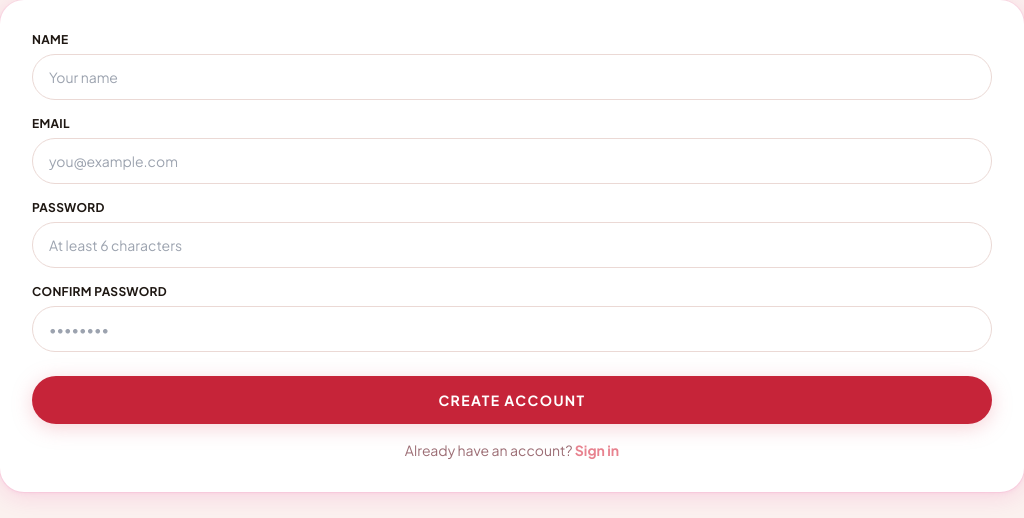
Scenario: SignupForm › shows a friendly error for a wrong or expired code (failure case)
In the field with placeholder "Your name": (512, 77) [32, 54, 992, 100], type "Nandini"
In the field with placeholder "you@example.com": (512, 161) [32, 138, 992, 184], type "nandini@charmavenue.in"
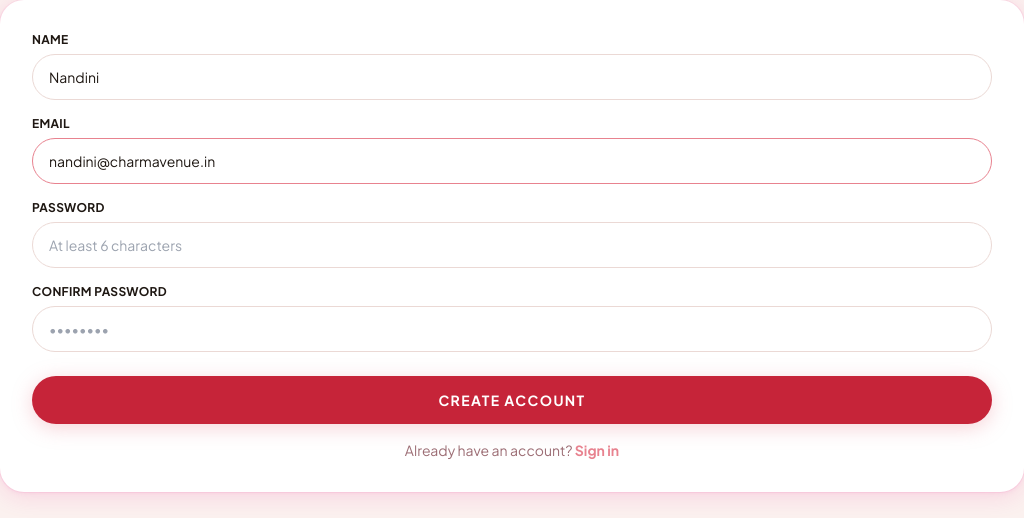
In the password field with placeholder "At least 6 characters": (512, 245) [32, 222, 992, 268], type "secret1"
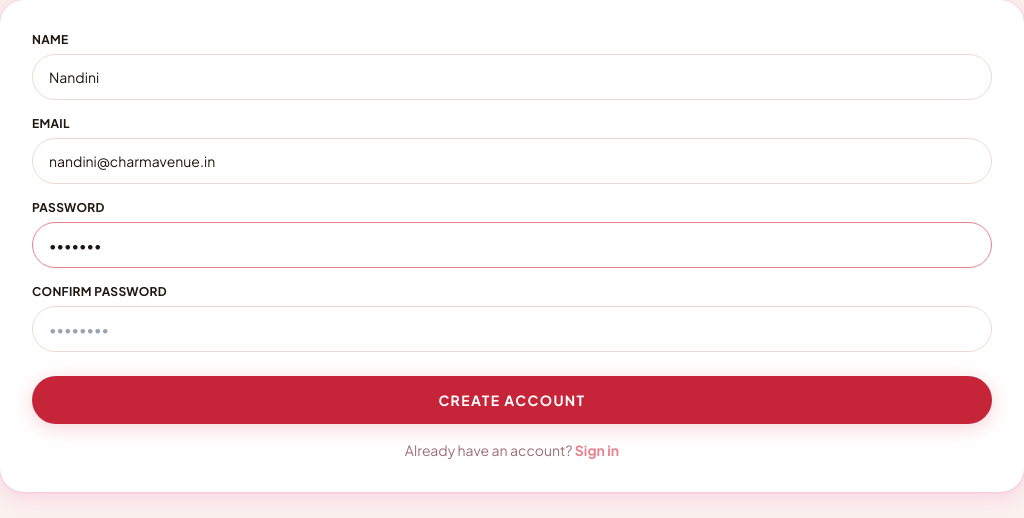
In the password field with placeholder "••••••••": (512, 329) [32, 306, 992, 352], type "secret1"
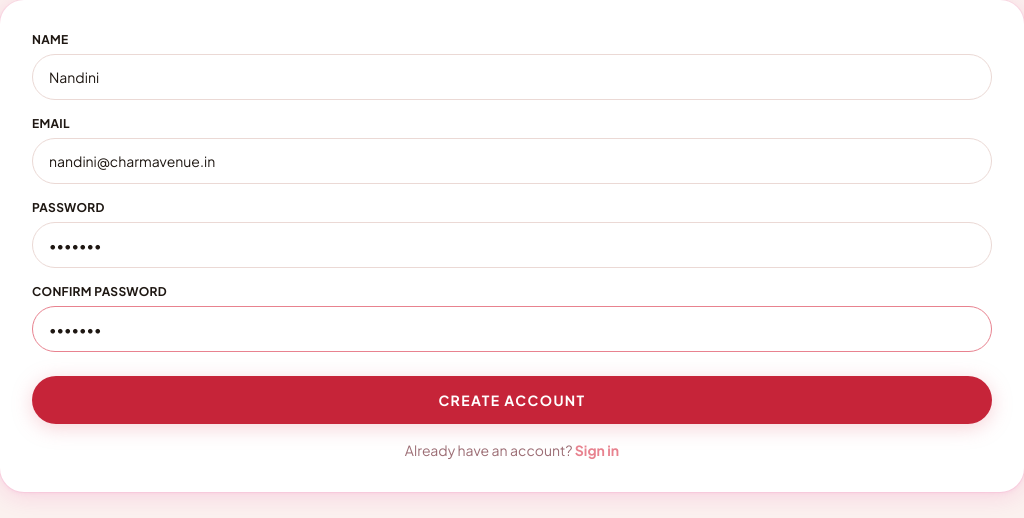
Click the button "Create Account": click(512, 400) [32, 376, 992, 424]
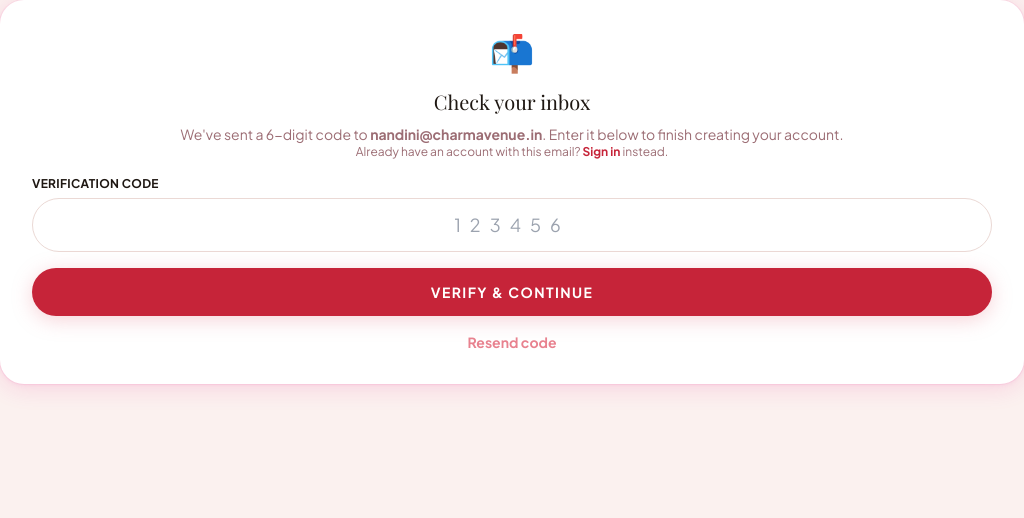
expect the heading "Check your inbox" is shown: met, box [434, 88, 590, 115]
In the field with placeholder "123456": (512, 225) [32, 198, 992, 252], type "000000"
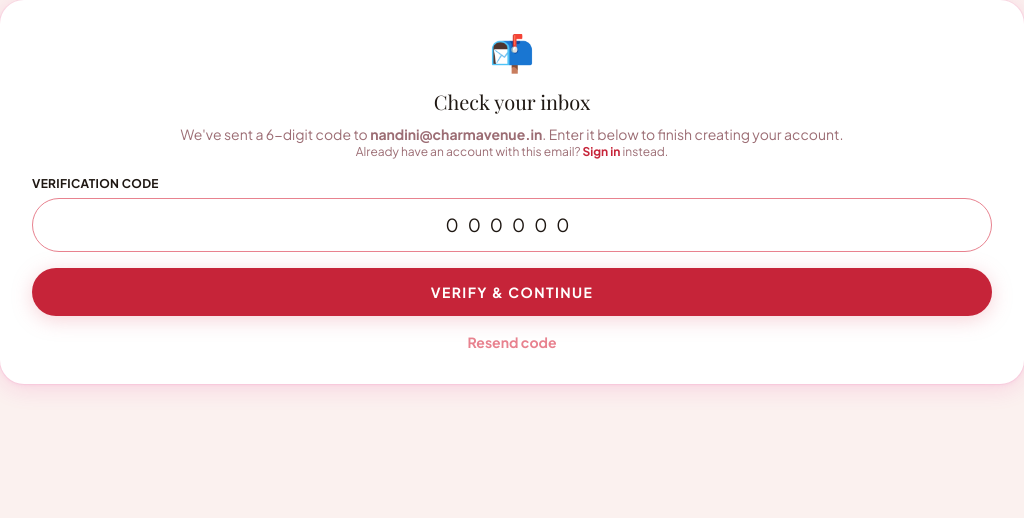
Click the button "Verify & Continue": click(512, 292) [32, 268, 992, 316]
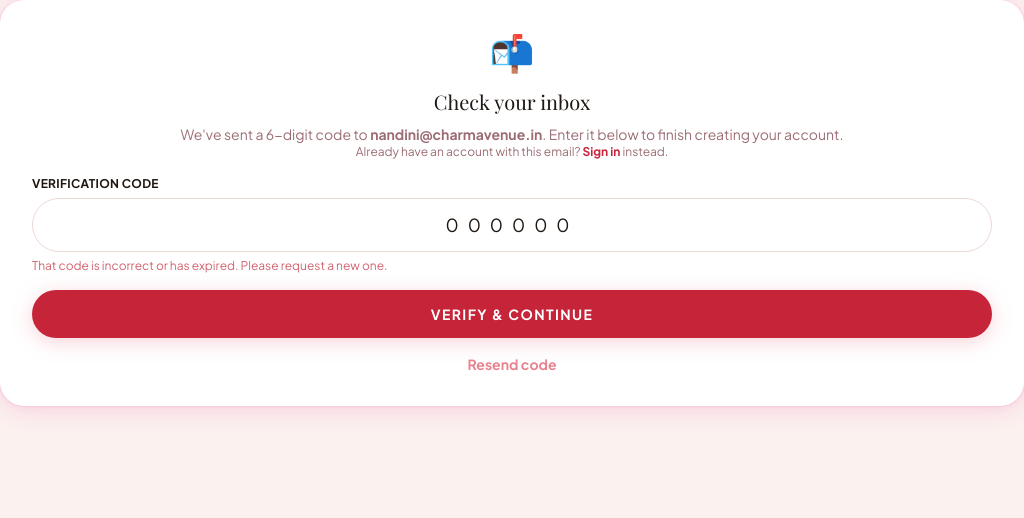
expect the text "That code is incorrect or has expired. Please request a new one." is shown: met, box [32, 258, 388, 273]
